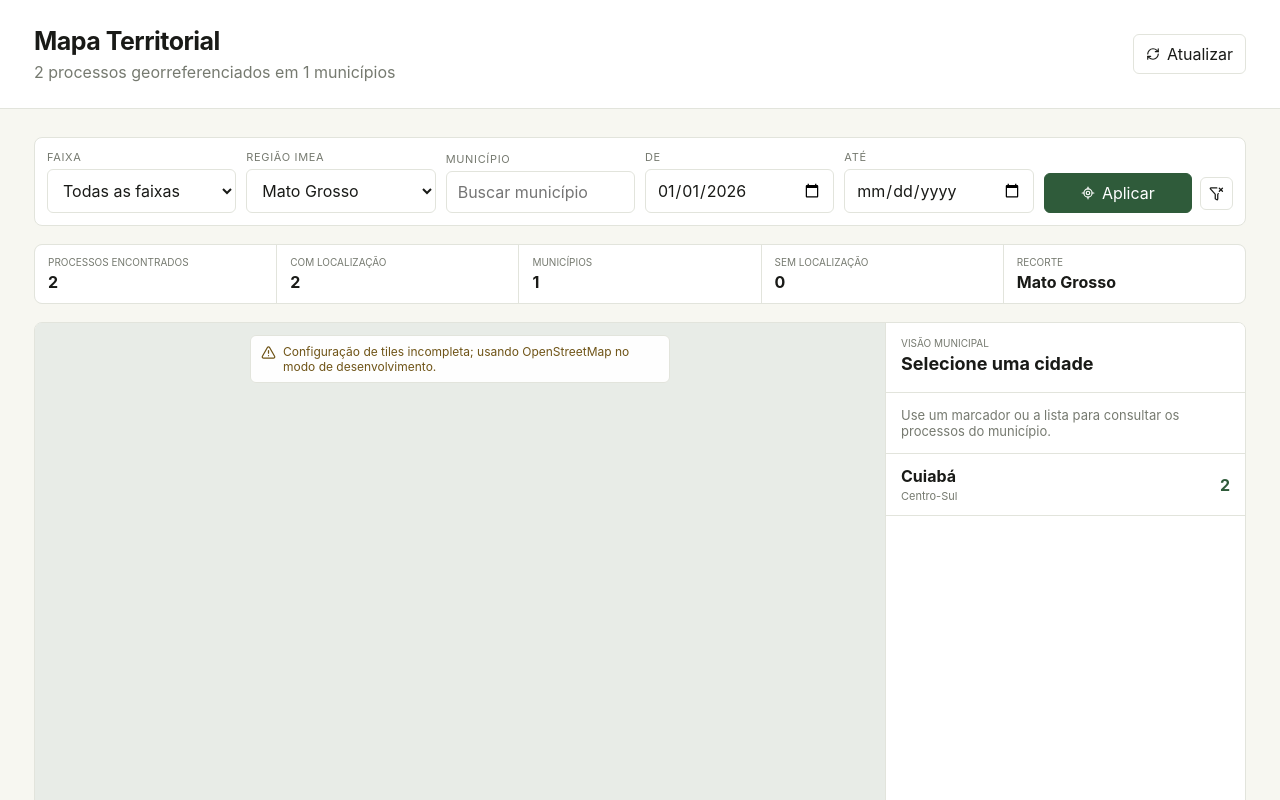
Test case: municipal process panel › selects, centers and requests the next ten-process page
This screenshot has width=1280, height=800.
What coordinates should you click on to do the following:
click the button "Cuiabá Centro-Sul 2"
I would click on:
 (928, 476)
Its box is x1=886 y1=454 x2=1245 y2=516.
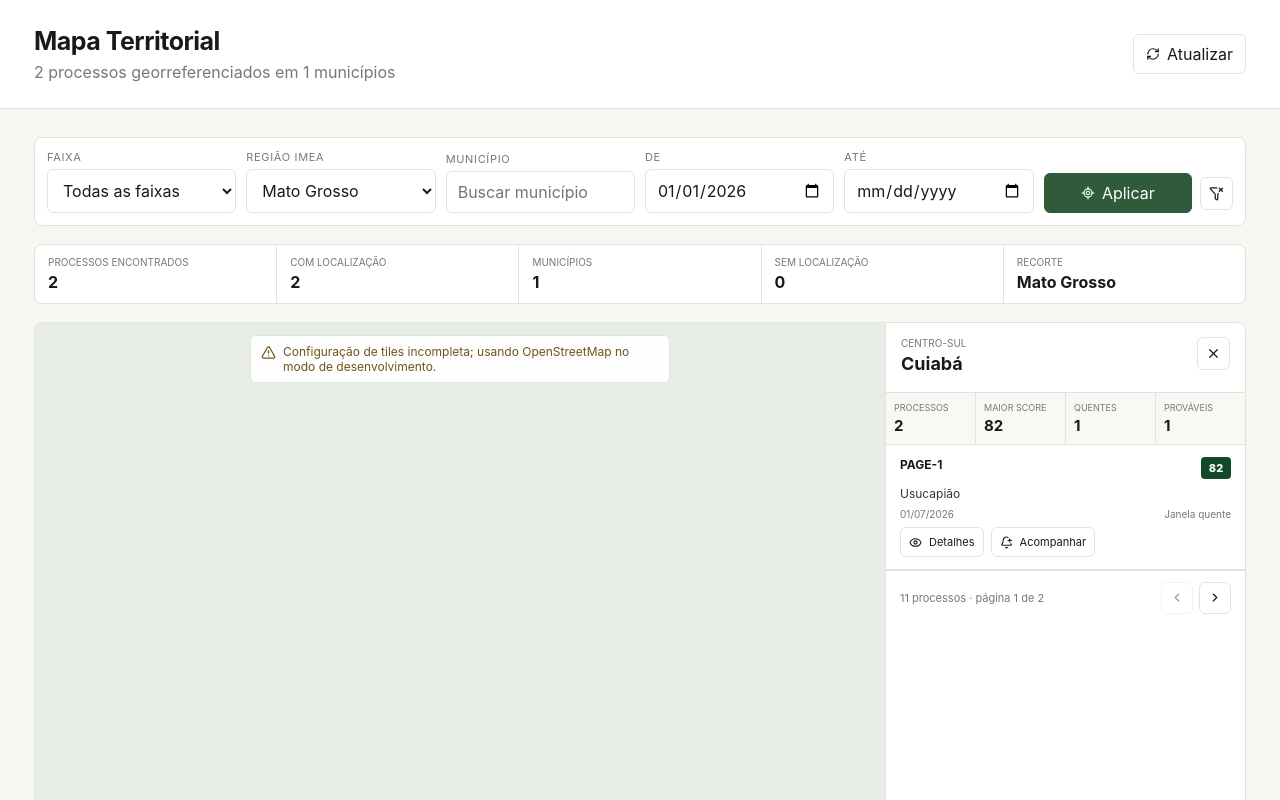
Result: the text "PAGE-1" is shown at x1=900 y1=457 x2=942 y2=472
What coordinates should you click on to do the following:
click the button named "Próxima página"
I would click on:
 (1215, 598)
Its box is x1=1199 y1=582 x2=1231 y2=614.
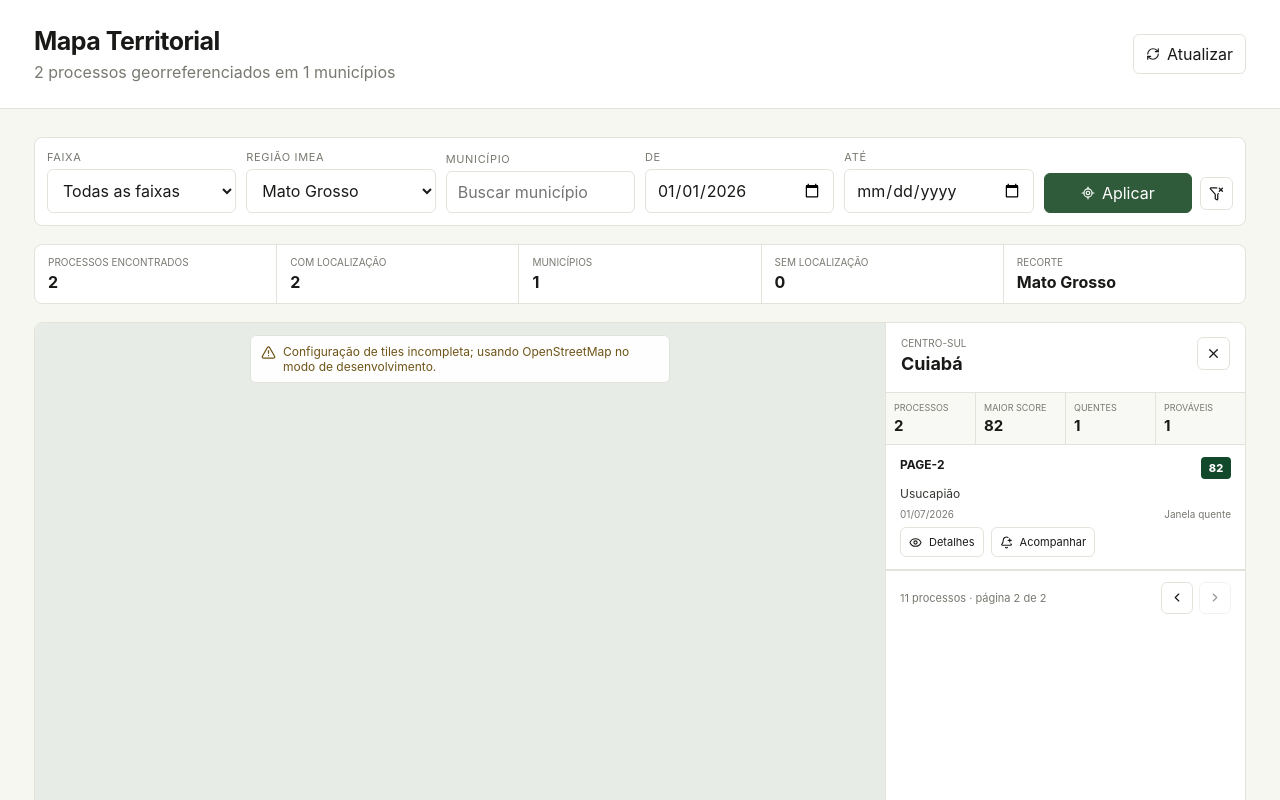
Result: the text "PAGE-2" is shown at x1=900 y1=457 x2=944 y2=472
